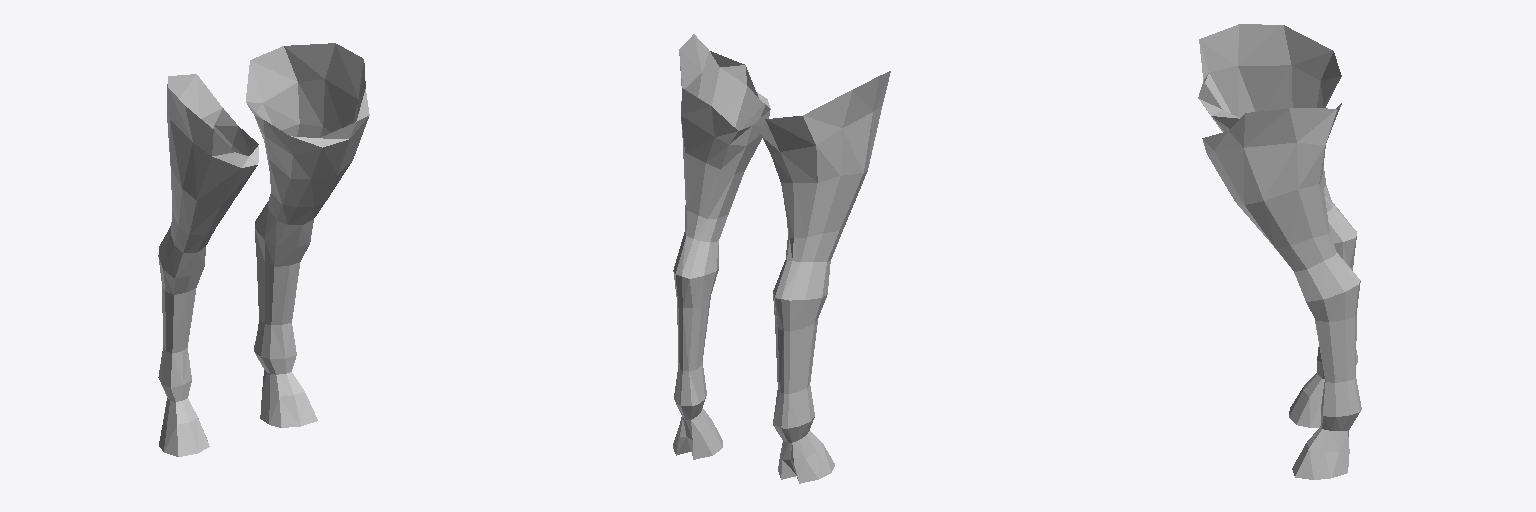
Rendered from PatasTraserasC.obj.
3 views of the same model, side by side, from view 1: azimuth 30°, elevation 25°; view 2: azimuth 150°, elevation 25°; view 3: azimuth 270°, elevation 25° (orthographic).
Visible parts, largest first — view 1: Horse_body1.003; view 2: Horse_body1.003; view 3: Horse_body1.003.
Part boxes in pixels (bbox=[...]): Horse_body1.003: bbox=[158, 43, 369, 456]; Horse_body1.003: bbox=[673, 34, 890, 483]; Horse_body1.003: bbox=[1198, 24, 1361, 479].
Bounding box in the file's own units: 3.12 × 6.17 × 2.43.